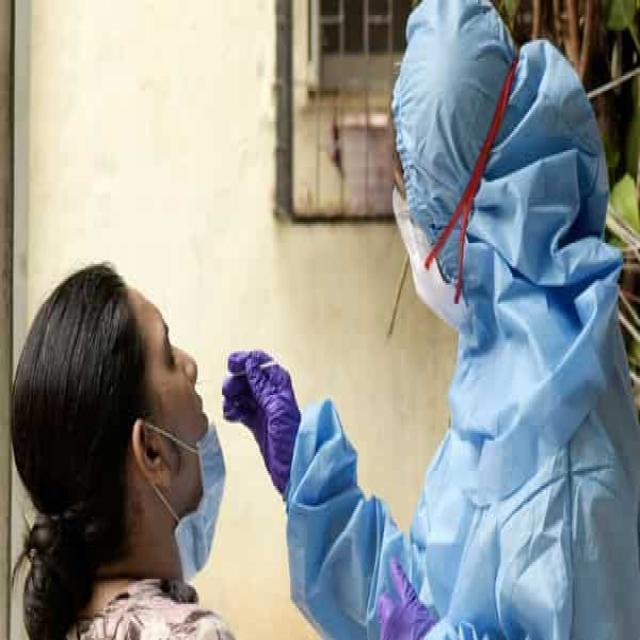Coverall: (208, 61, 634, 640)
Gloves: (219, 327, 303, 528)
Mask: (394, 188, 466, 310)
